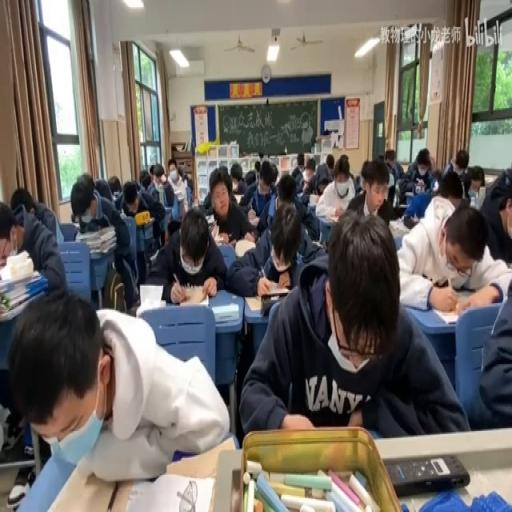calculator: (43, 456, 123, 512), (123, 471, 216, 512), (0, 249, 49, 318), (162, 435, 235, 481), (242, 293, 286, 313), (138, 283, 163, 309), (172, 292, 210, 308), (212, 302, 238, 324), (430, 306, 459, 324), (234, 238, 256, 258), (260, 282, 290, 294), (389, 218, 409, 234), (134, 214, 154, 228), (246, 206, 260, 224), (326, 209, 344, 222), (453, 286, 474, 296), (475, 185, 485, 205), (156, 183, 165, 205), (467, 188, 478, 205), (210, 222, 219, 242), (149, 246, 159, 263), (310, 239, 324, 250), (231, 193, 243, 205), (483, 174, 496, 184), (308, 193, 318, 205), (294, 189, 306, 199), (404, 189, 414, 201), (205, 213, 214, 225), (117, 209, 126, 218), (230, 139, 236, 145)
paper: (240, 208, 462, 436), (10, 284, 227, 490), (77, 171, 141, 307), (464, 260, 510, 431), (154, 205, 226, 301), (205, 170, 256, 248), (477, 163, 512, 264), (346, 155, 396, 223), (10, 186, 60, 246), (136, 171, 169, 246), (399, 146, 436, 205), (162, 159, 186, 228), (303, 155, 332, 196), (435, 171, 465, 203), (274, 174, 296, 204), (229, 161, 244, 193), (467, 165, 484, 192), (108, 174, 122, 196), (182, 168, 193, 195), (152, 165, 166, 186), (454, 152, 468, 172), (291, 165, 303, 186), (243, 168, 256, 186), (124, 194, 137, 210), (339, 154, 350, 172), (140, 171, 150, 189), (353, 172, 362, 192), (270, 162, 278, 184), (325, 154, 334, 170), (385, 151, 395, 165), (177, 164, 185, 180), (302, 174, 311, 188), (219, 164, 229, 176), (296, 154, 304, 169), (428, 154, 435, 170), (168, 164, 177, 176), (253, 160, 260, 174), (148, 162, 154, 175), (432, 181, 438, 192), (256, 152, 262, 159)
person: (384, 454, 468, 496), (394, 202, 407, 213)
